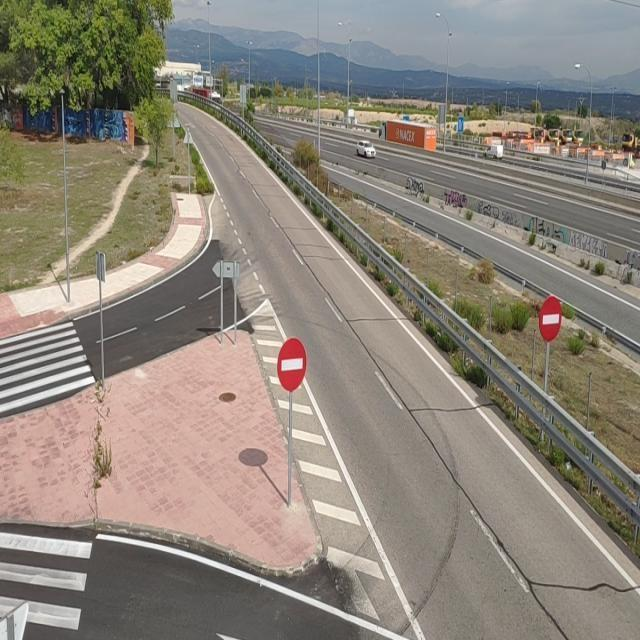Car: (356, 140, 376, 159)
Truck: (375, 119, 437, 150), (191, 86, 224, 108)
Van: (483, 144, 504, 161)
